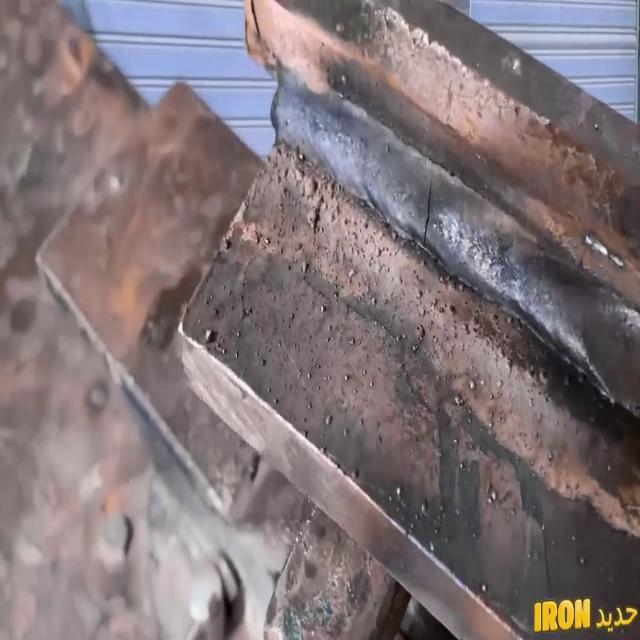Bad Weld: (270, 64, 634, 412)
Defect: (414, 172, 440, 254)
